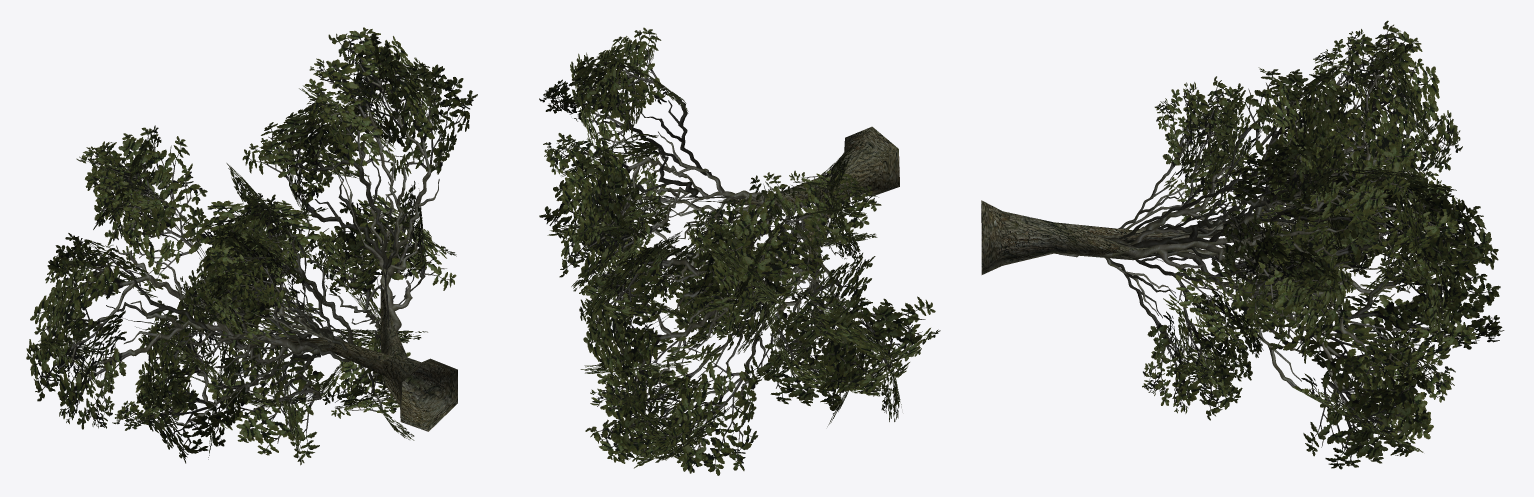
File: MEP_Oak_01.fbx
The picture shows the model from 3 angles, left to right: view 1: azimuth 30°, elevation 25°; view 2: azimuth 150°, elevation 25°; view 3: azimuth 270°, elevation 25°; orthographic projection. The views are drawn at different scales.
Visible parts, largest first — view 1: MEP_Oak_Leafs, MEP_Oak_Trunk; view 2: MEP_Oak_Leafs, MEP_Oak_Trunk; view 3: MEP_Oak_Leafs, MEP_Oak_Trunk.
Part boxes in pixels (left/top/right/bottom): MEP_Oak_Leafs: left=26, top=27, right=477, bottom=465; MEP_Oak_Trunk: left=287, top=284, right=457, bottom=431; MEP_Oak_Leafs: left=539, top=27, right=940, bottom=475; MEP_Oak_Trunk: left=717, top=126, right=899, bottom=273; MEP_Oak_Leafs: left=1058, top=20, right=1504, bottom=469; MEP_Oak_Trunk: left=981, top=200, right=1229, bottom=274.
Size of the model in its own units: 12.19 by 11.97 by 12.8.
